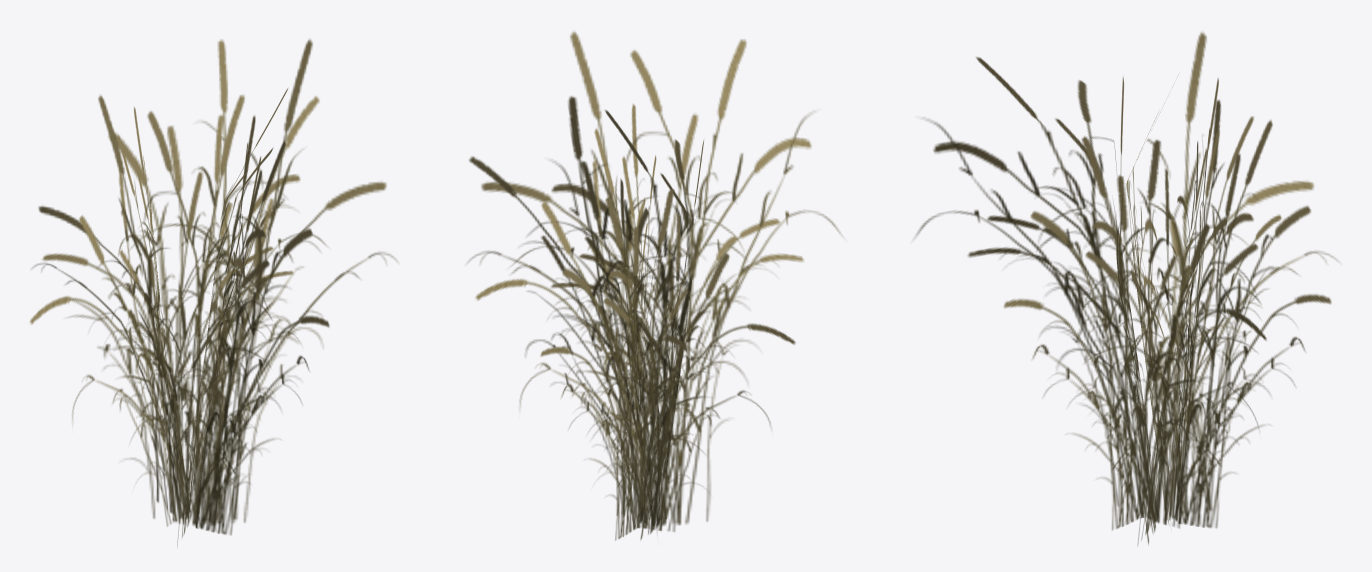
File: ichu_14.glb
3 renders of one model, left to right at view 1: azimuth 30°, elevation 25°; view 2: azimuth 150°, elevation 25°; view 3: azimuth 270°, elevation 25°, orthographic. The views are drawn at different scales.
Parts seen in each view (by area): view 1: Ichu; view 2: Ichu; view 3: Ichu.
Part boxes in pixels (x1,y1,x2,y2): Ichu: (30,39,396,546); Ichu: (468,31,841,540); Ichu: (915,32,1337,545).
Bounding box in the file's own units: 0.4463 × 0.56 × 0.4565.
1 material, 1 textured.
